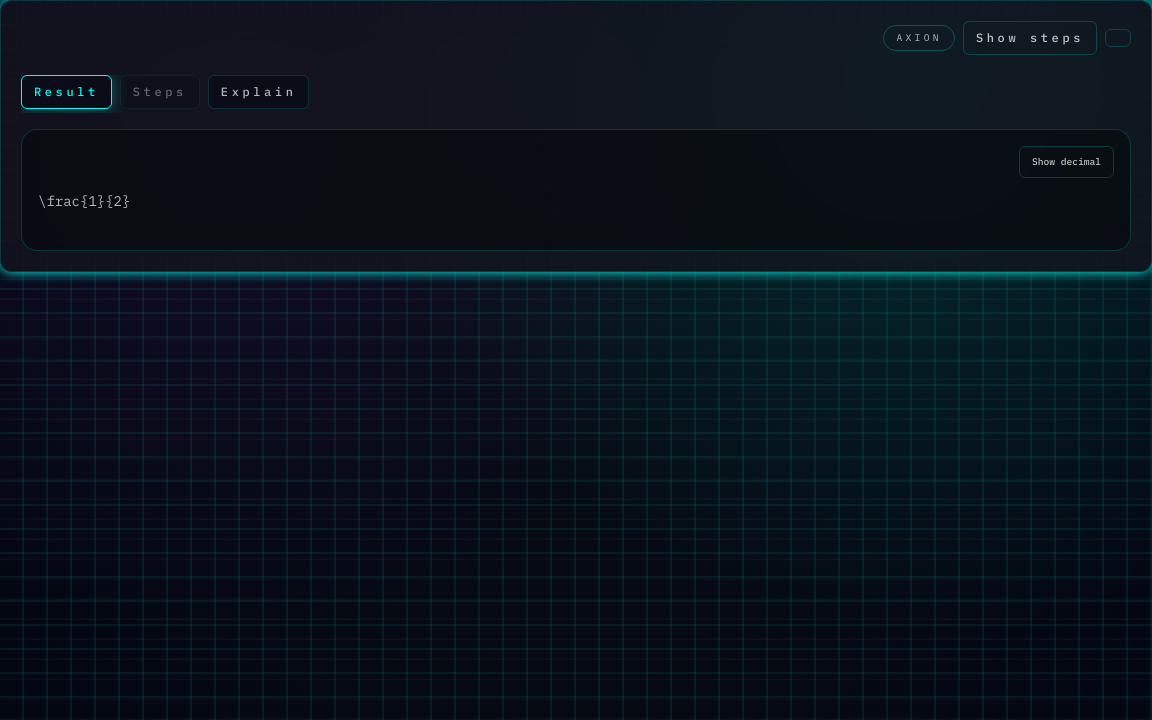
Scenario: ResultPane › allows toggling a fraction result to its decimal value
Click the button "Show decimal" at (1066, 162), box [1019,146,1114,178]
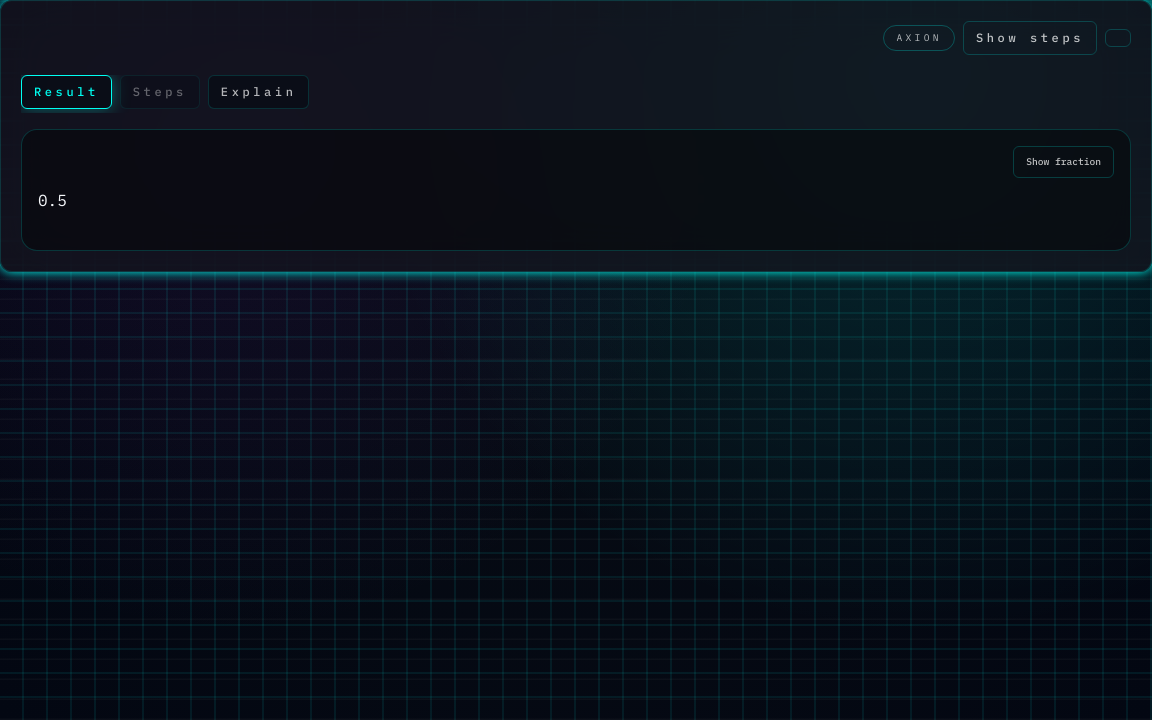
expect the text with test id "result-exact-decimal" reads "0.5": met, box [38,190,67,210]
Click the button named "show decimal" at (1064, 162), box [1013,146,1114,178]
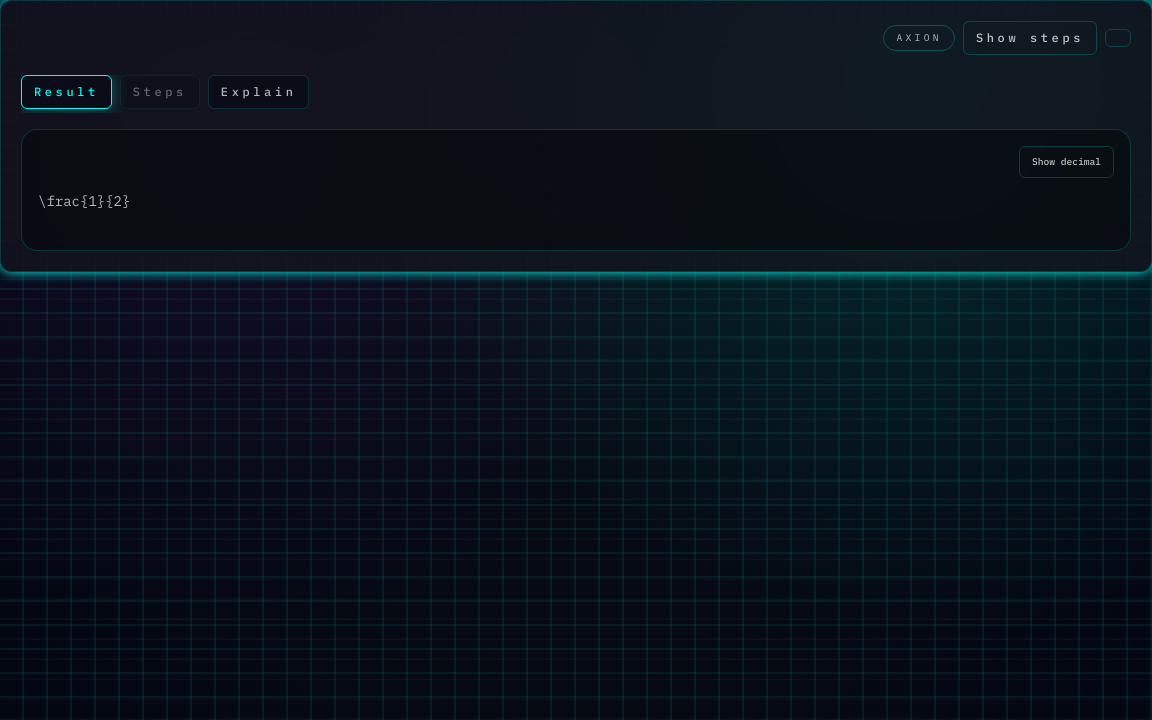
expect the text "\\frac{1}{2}" is shown: met, box [38,192,130,210]
